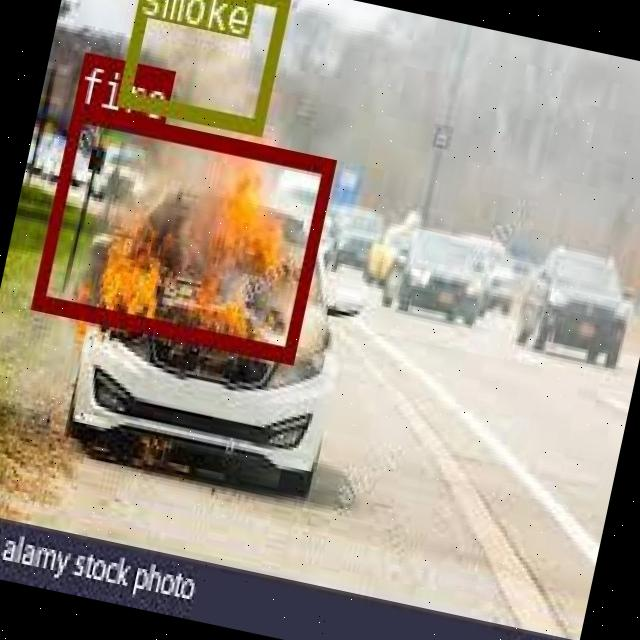fire: (29, 103, 334, 360)
smoke: (117, 0, 289, 133)
